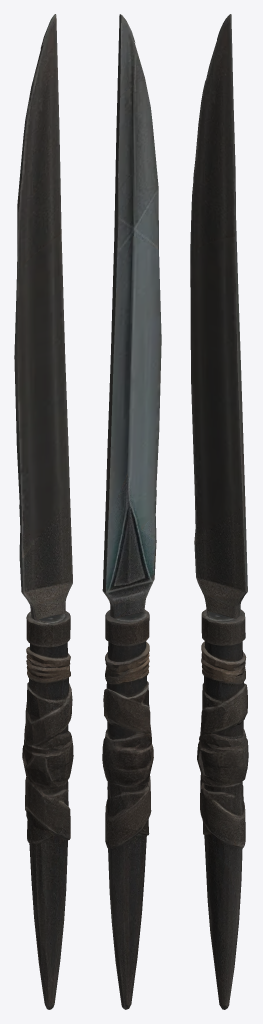
File: scalpel_blade.glb
3 renders of one model, left to right at view 1: azimuth 30°, elevation 25°; view 2: azimuth 210°, elevation 25°; view 3: azimuth 330°, elevation 25°, orthographic.
Size of the model in its own units: 0.0507 by 0.85 by 0.0381.
Materials: 1 (1 with a texture image).
